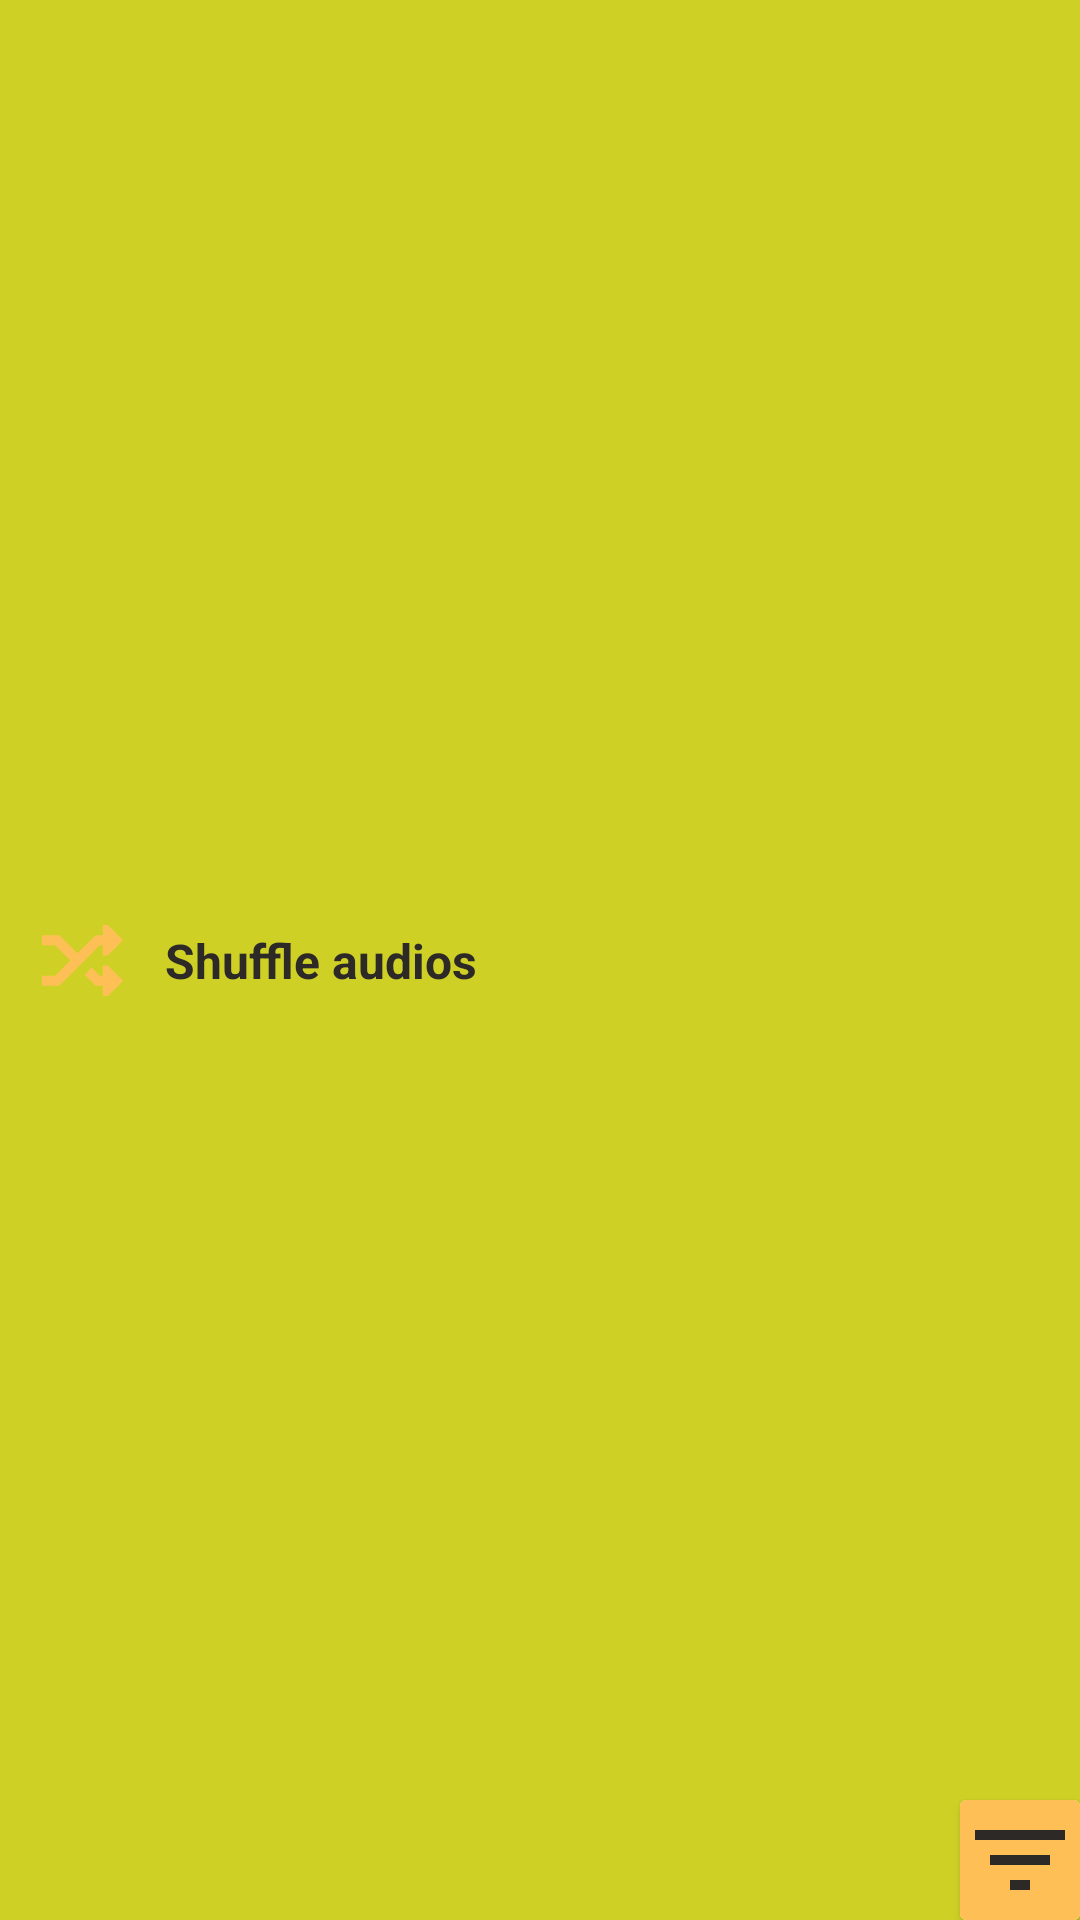

Screen size 1080 x 1920. Icon name, then its box in pixels as (x1, y1, x2, y2):
muel shuffle: (42, 925, 123, 996)
sort: (960, 1800, 1080, 1920)
